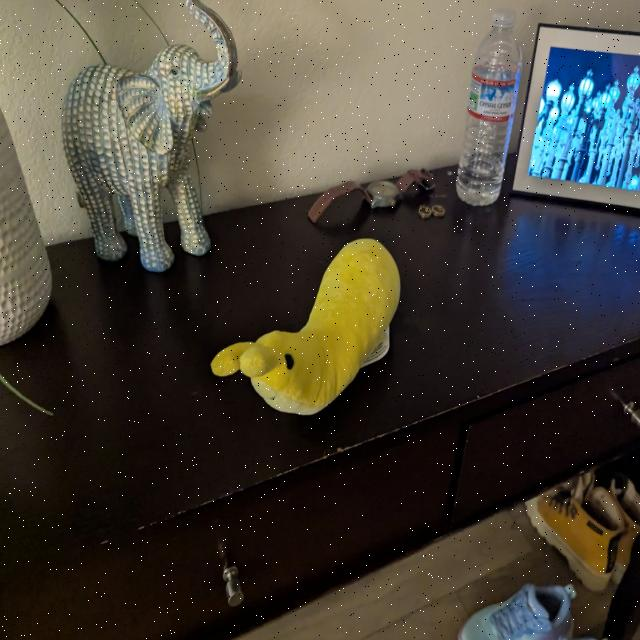banana-slug-toy: (201, 229, 412, 424)
